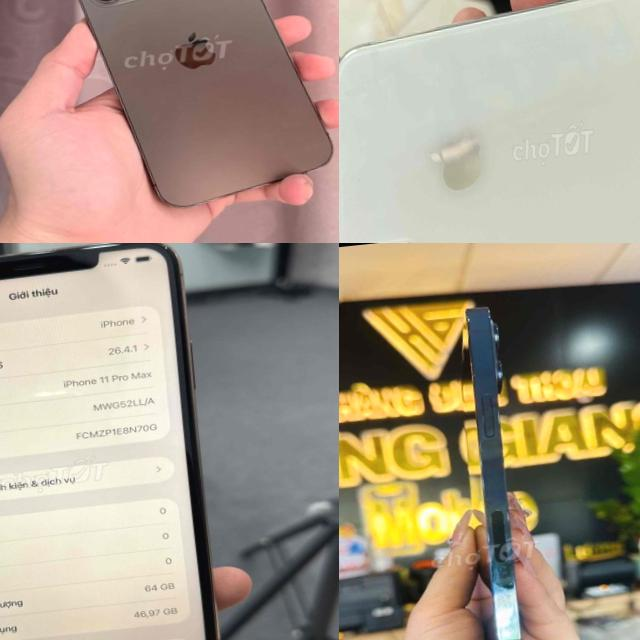gen_11: (0, 243, 233, 640)
gen_12_13: (62, 0, 338, 216), (448, 295, 541, 640)
gen_x_xs: (339, 0, 640, 243)
